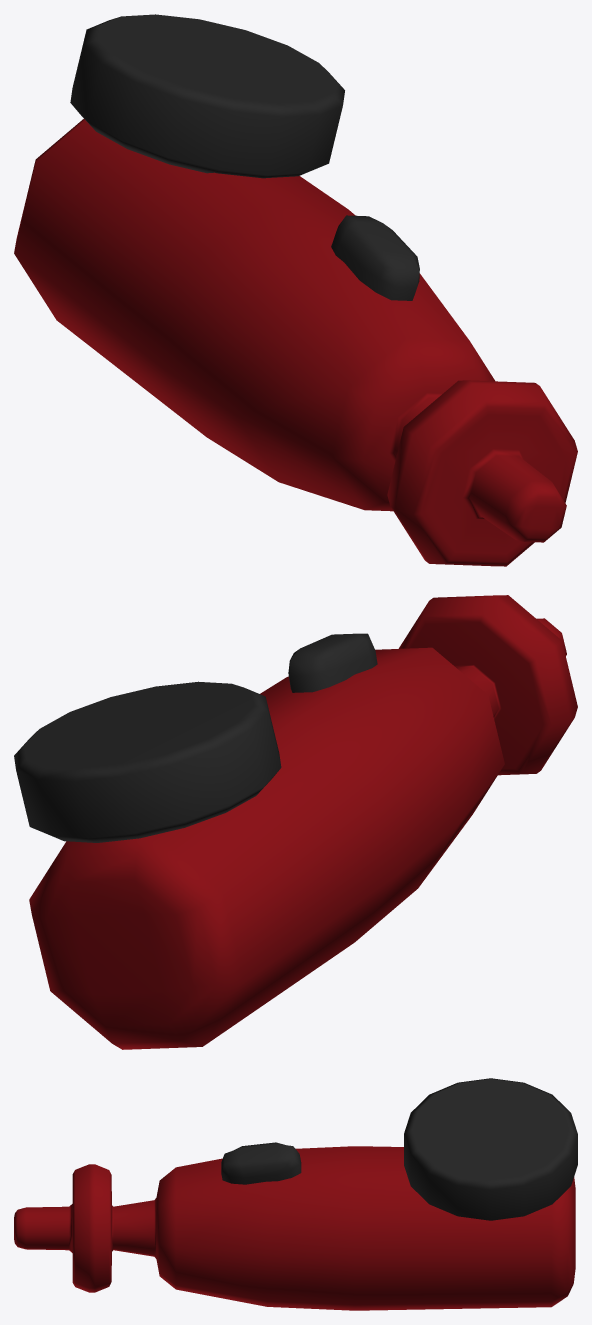
The model's file is Ship_enemy_11_Weapon_L.fbx.
The picture shows the model from 3 angles, top to bottom: view 1: azimuth 30°, elevation 25°; view 2: azimuth 150°, elevation 25°; view 3: azimuth 270°, elevation 25°; orthographic projection. The views are drawn at different scales.
Visible parts, largest first — view 1: Ship_enemy_11_Weapon_L; view 2: Ship_enemy_11_Weapon_L; view 3: Ship_enemy_11_Weapon_L.
Part boxes in pixels (x1,y1,x2,y2): Ship_enemy_11_Weapon_L: [14, 14, 577, 566]; Ship_enemy_11_Weapon_L: [14, 595, 577, 1049]; Ship_enemy_11_Weapon_L: [14, 1078, 577, 1310].
Size of the model in its own units: 81.45 by 93.1 by 228.
